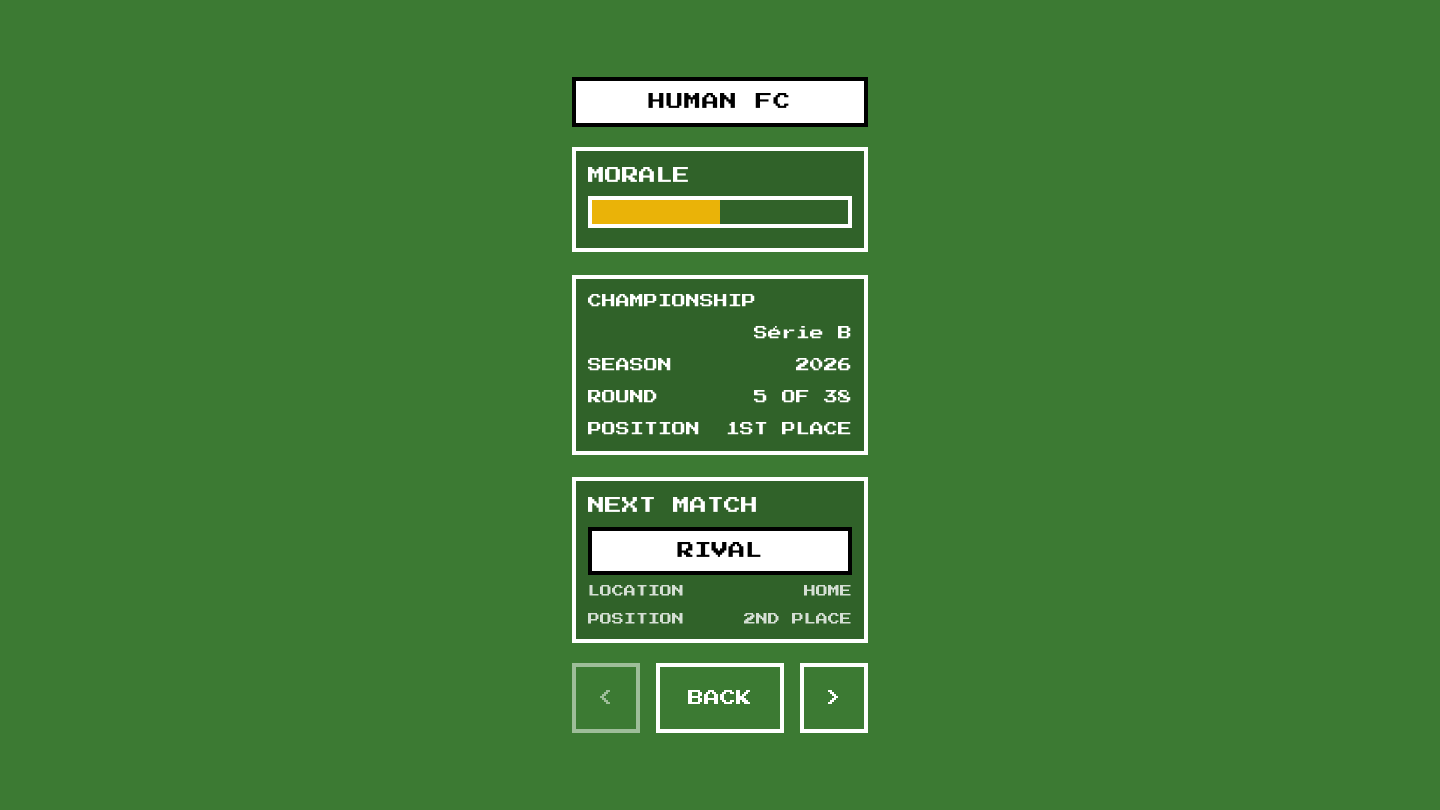
it: TeamAdditionalInfo › renders the second page labels in English
What coordinates should you click on to do the following:
click the button ">"
I would click on:
 (834, 698)
Its box is top-left (800, 663), bottom-right (868, 733).
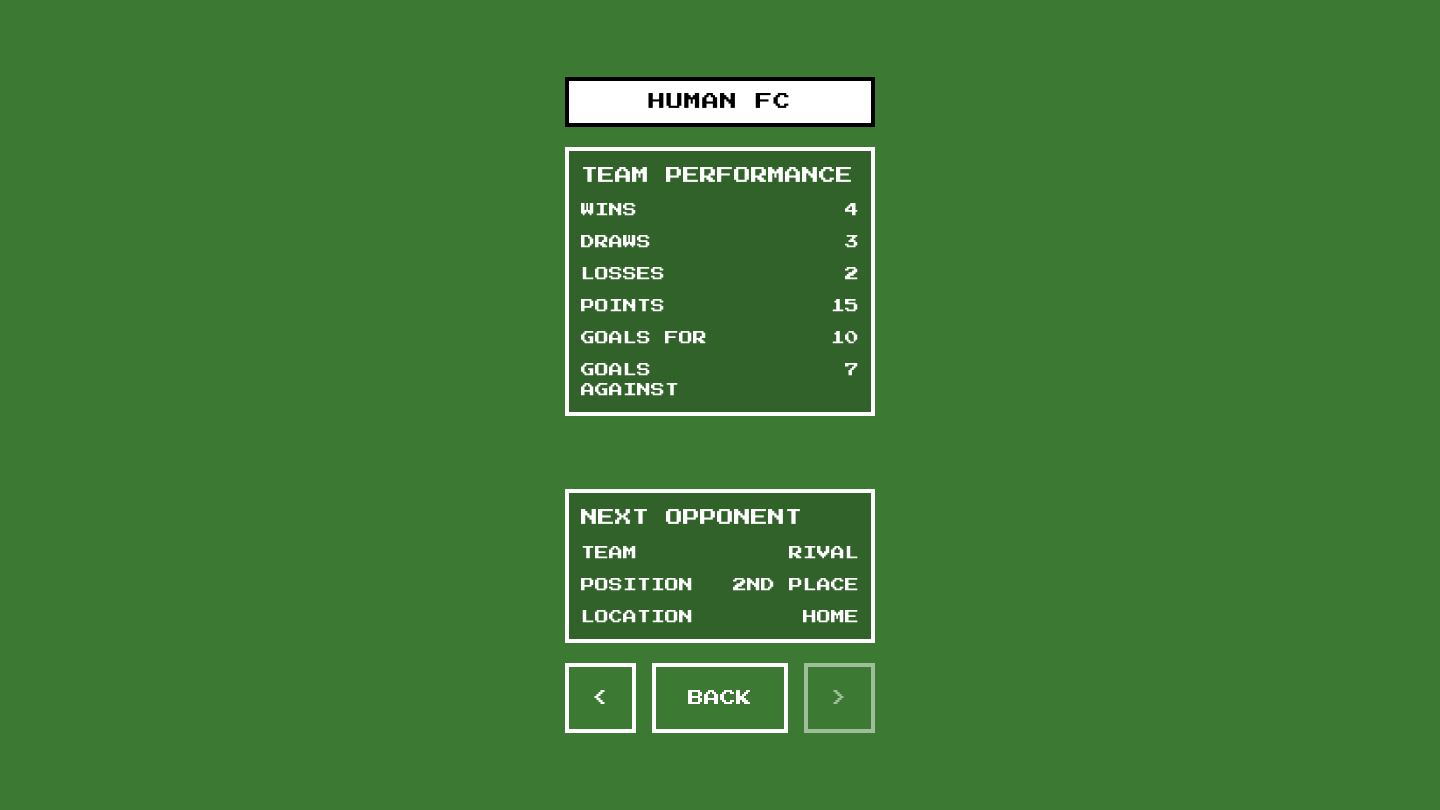
Now the text "TEAM PERFORMANCE" is shown, box top-left (581, 163), bottom-right (859, 188)
Now the text "WINS" is shown, box top-left (581, 203), bottom-right (637, 217)
Now the text "DRAWS" is shown, box top-left (581, 235), bottom-right (651, 249)
